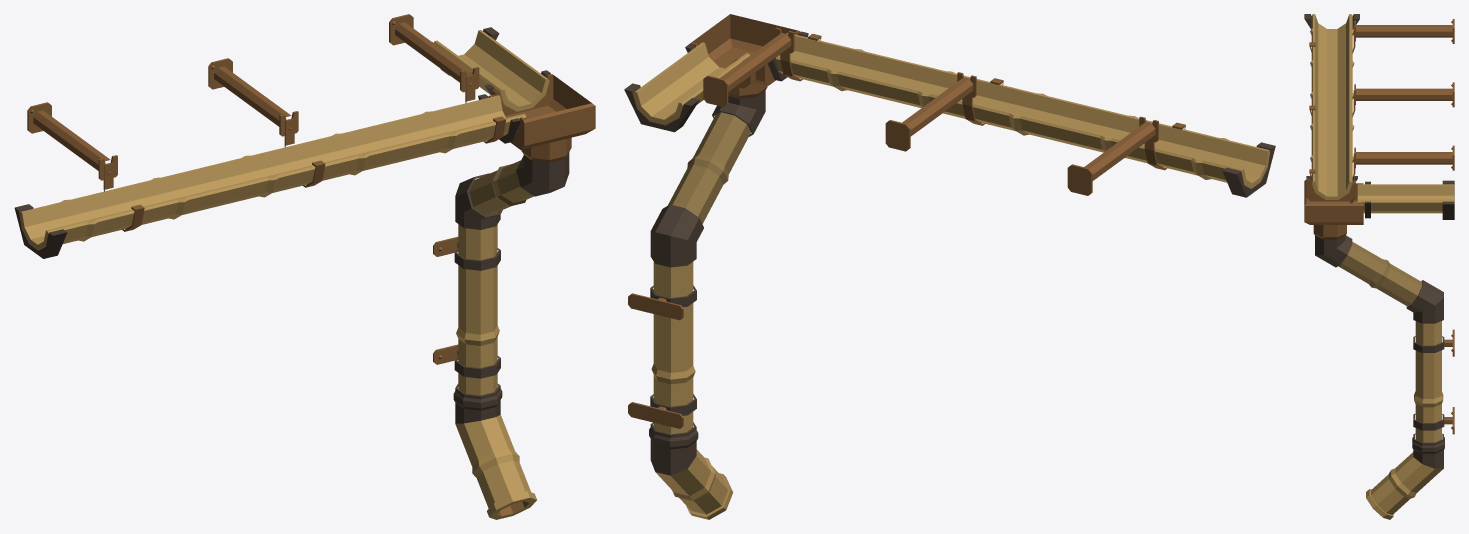
The model's file is eave-rainwater-channel-0213e7.glb.
The picture shows the model from 3 angles, left to right: view 1: azimuth 30°, elevation 25°; view 2: azimuth 150°, elevation 25°; view 3: azimuth 270°, elevation 25°; orthographic projection. The views are drawn at different scales.
Visible parts, largest first — view 1: gutter; view 2: gutter; view 3: gutter.
Part boxes in pixels (left/top/right/bottom): gutter: left=14, top=14, right=595, bottom=519; gutter: left=624, top=14, right=1275, bottom=519; gutter: left=1304, top=14, right=1454, bottom=519.
Size of the model in its own units: 3 by 2.56 by 1.
